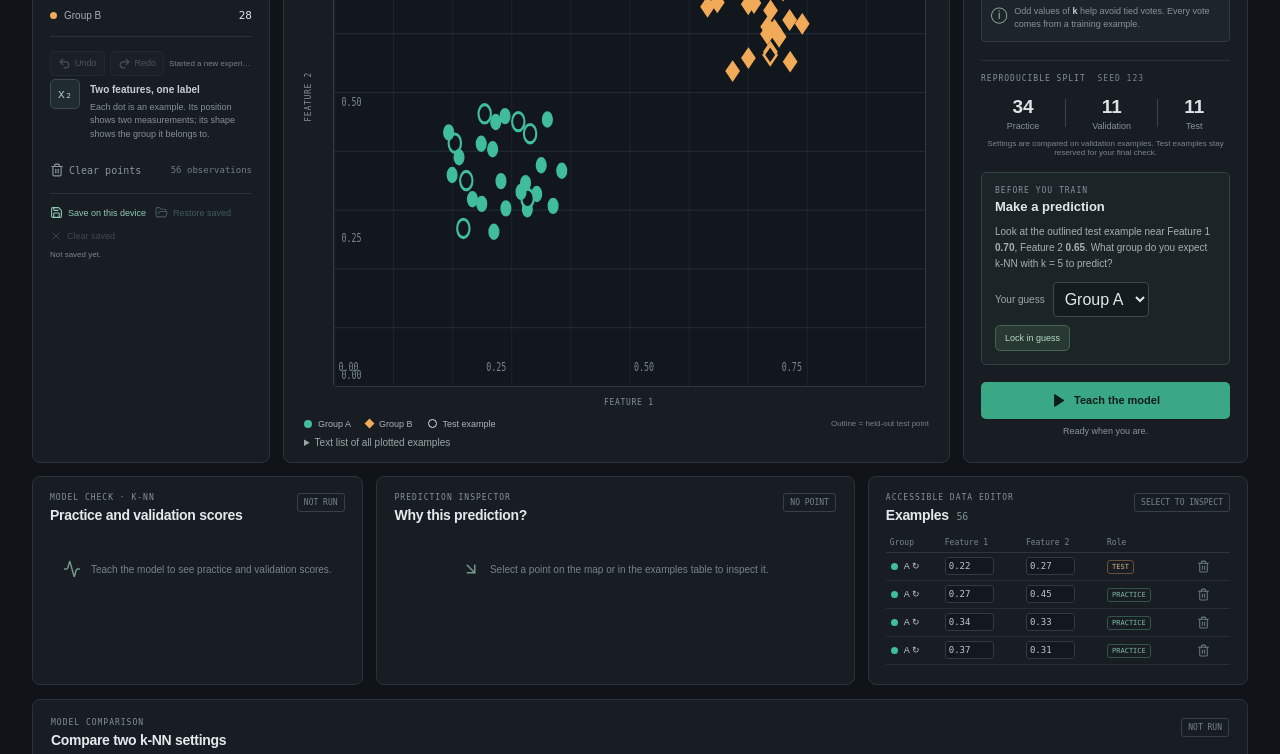
Test: AI Playground workspace › requires another run when the student submits a guess after already seeing a run
(page scrolled)
Click the button "Teach the model": [1106, 400] box [981,382,1230,419]
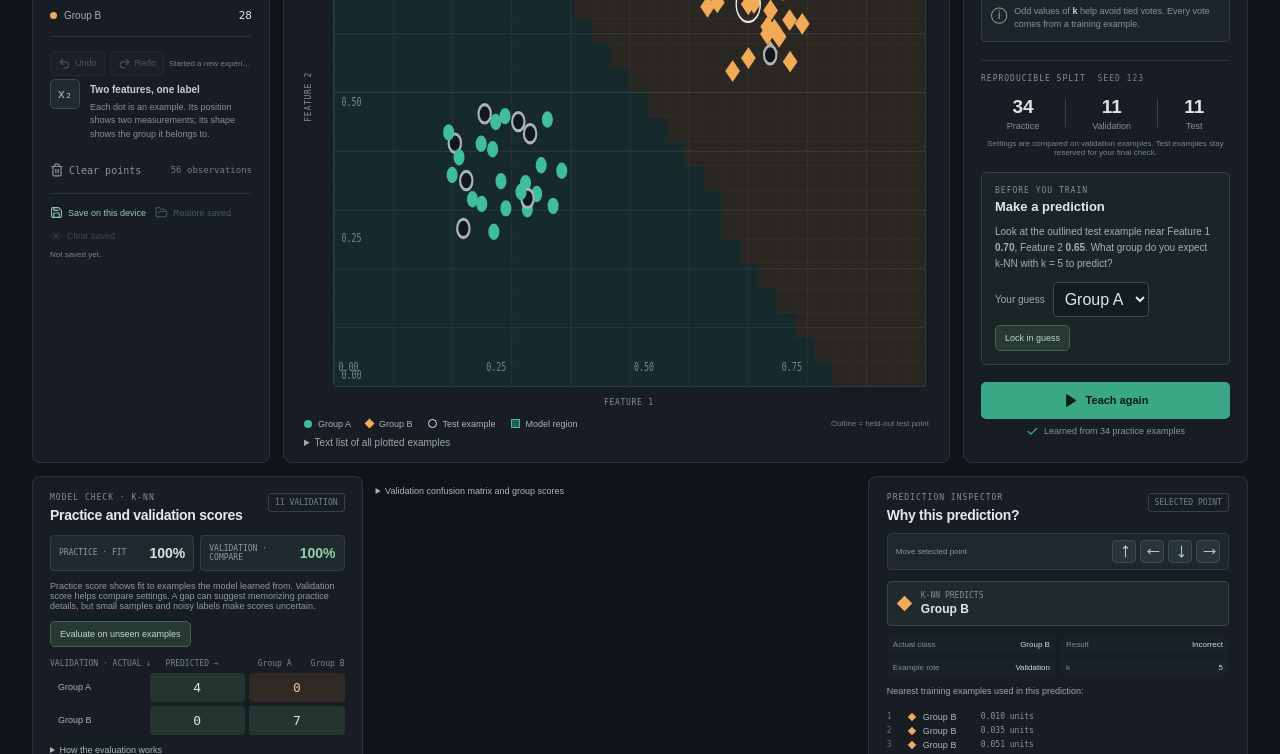
Click the button "Lock in guess": [1032, 338] box [995,325,1070,351]
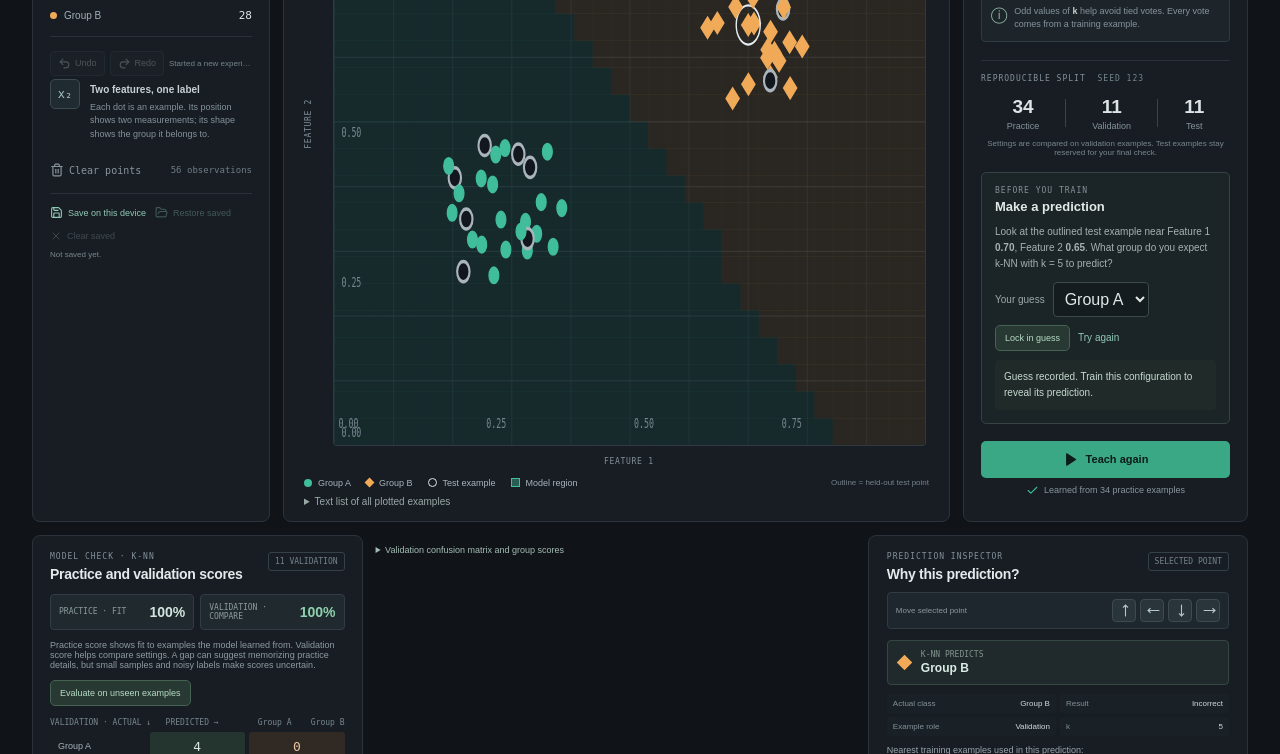
Check: the text "The model predicted Group" is not shown
Click the button "Teach again": [1106, 459] box [981,441,1230,478]
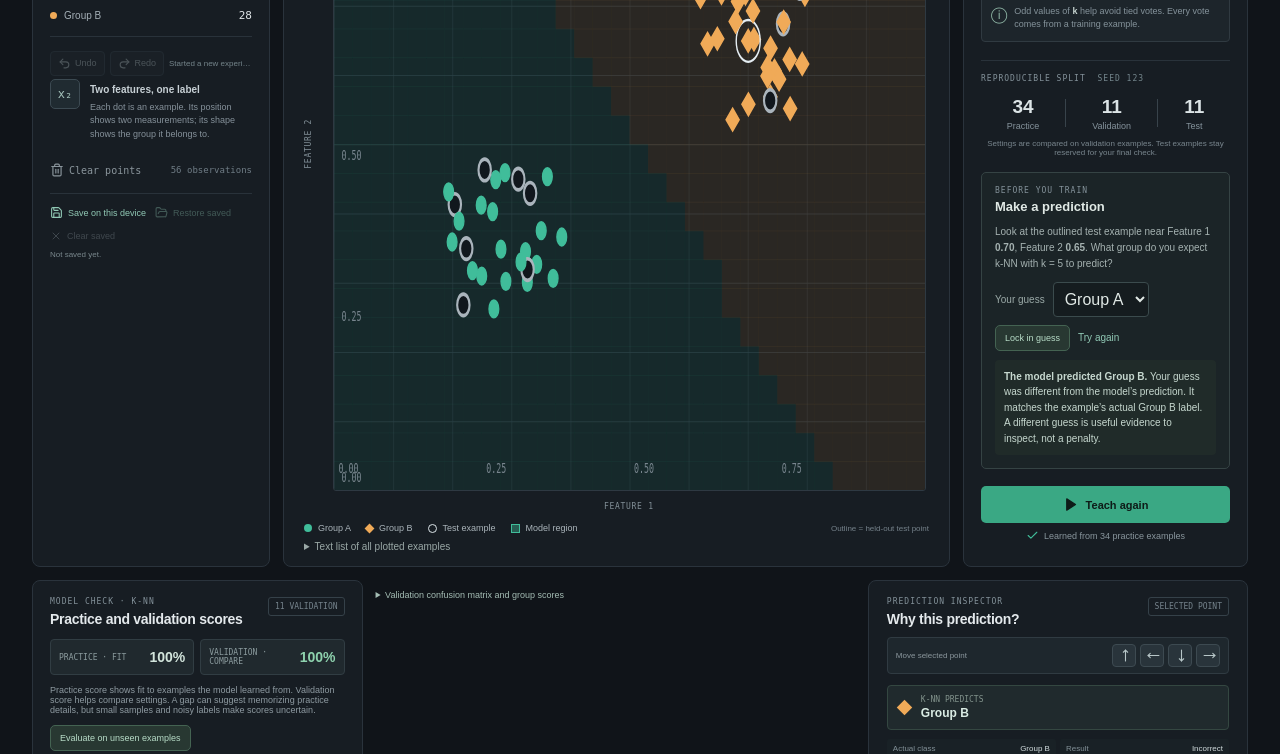
Check: the text "The model predicted Group B." is shown, box [1004,371,1147,382]
